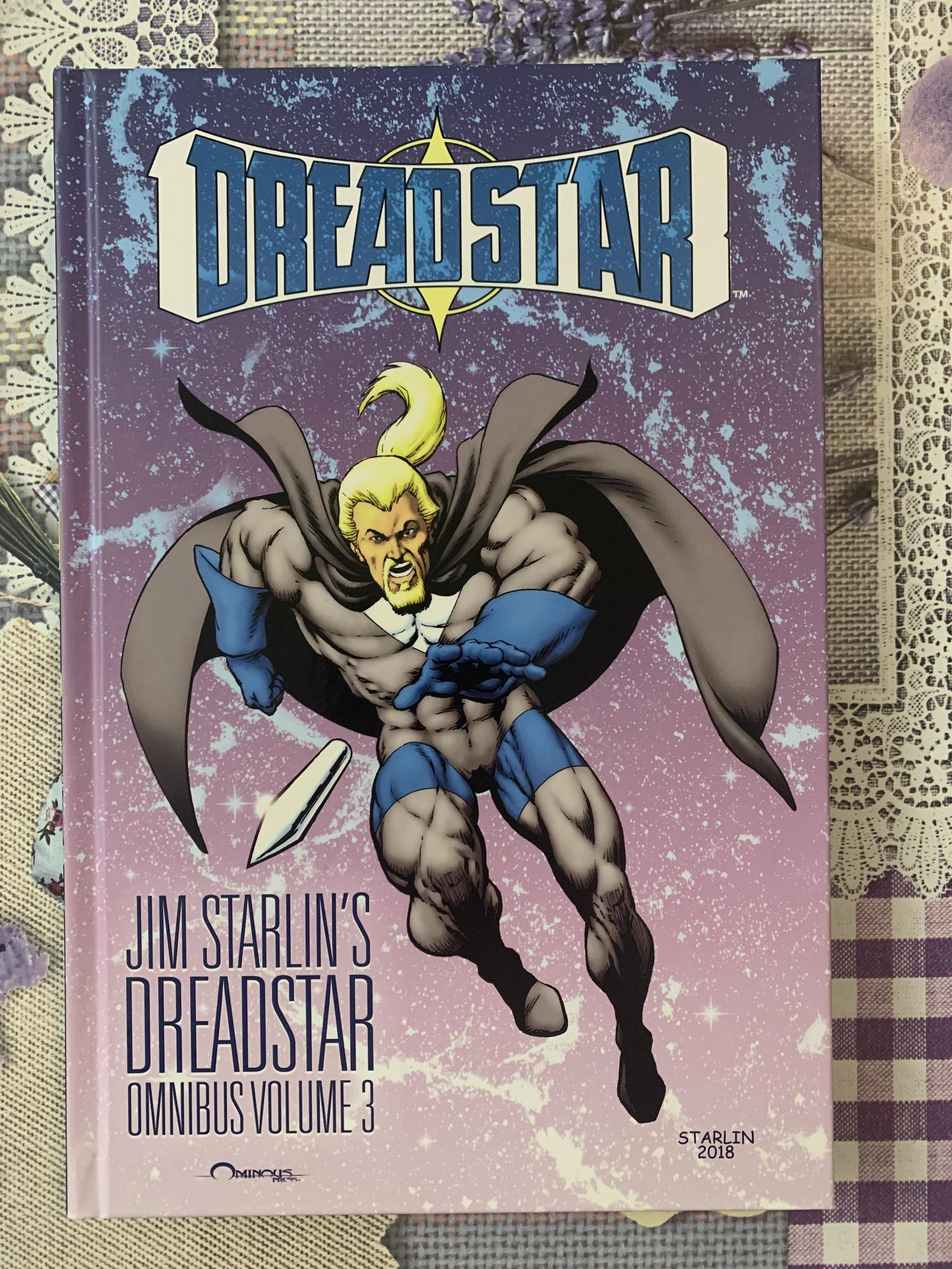comic: (55, 60, 833, 1217)
